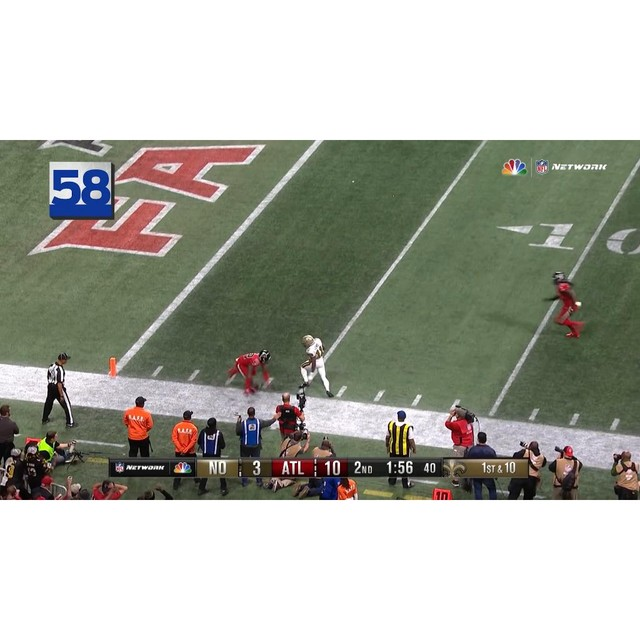american-football-player: (542, 271, 586, 339), (298, 335, 336, 399), (225, 349, 274, 396)
referee: (38, 351, 77, 427)
